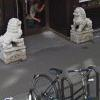Statue: (1, 11, 29, 74)
